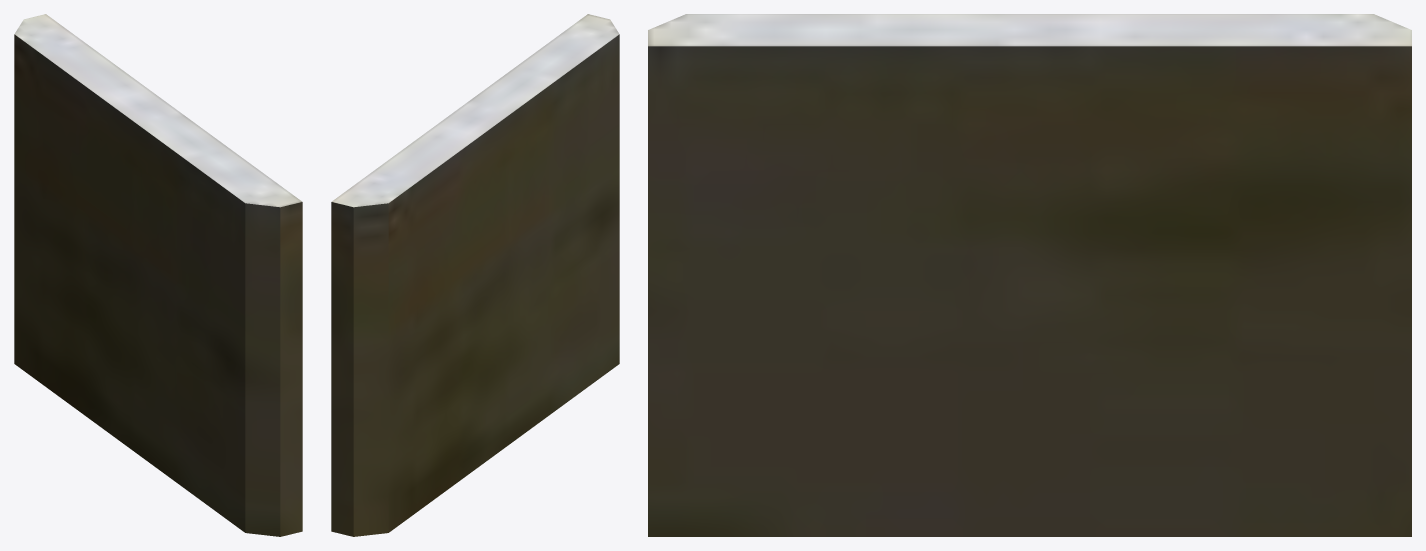
The model's file is glassDoor1.fbx.
3 renders of one model, left to right at view 1: azimuth 30°, elevation 25°; view 2: azimuth 150°, elevation 25°; view 3: azimuth 270°, elevation 25°, orthographic. The views are drawn at different scales.
Visible parts, largest first — view 1: GlassDoor1; view 2: GlassDoor1; view 3: GlassDoor1.
Part boxes in pixels (x1,y1,x2,y2): GlassDoor1: (14, 14, 302, 536); GlassDoor1: (331, 14, 619, 536); GlassDoor1: (648, 14, 1411, 536).
Bounding box in the file's own units: 10 × 70.88 × 100.
1 material, 1 textured.
